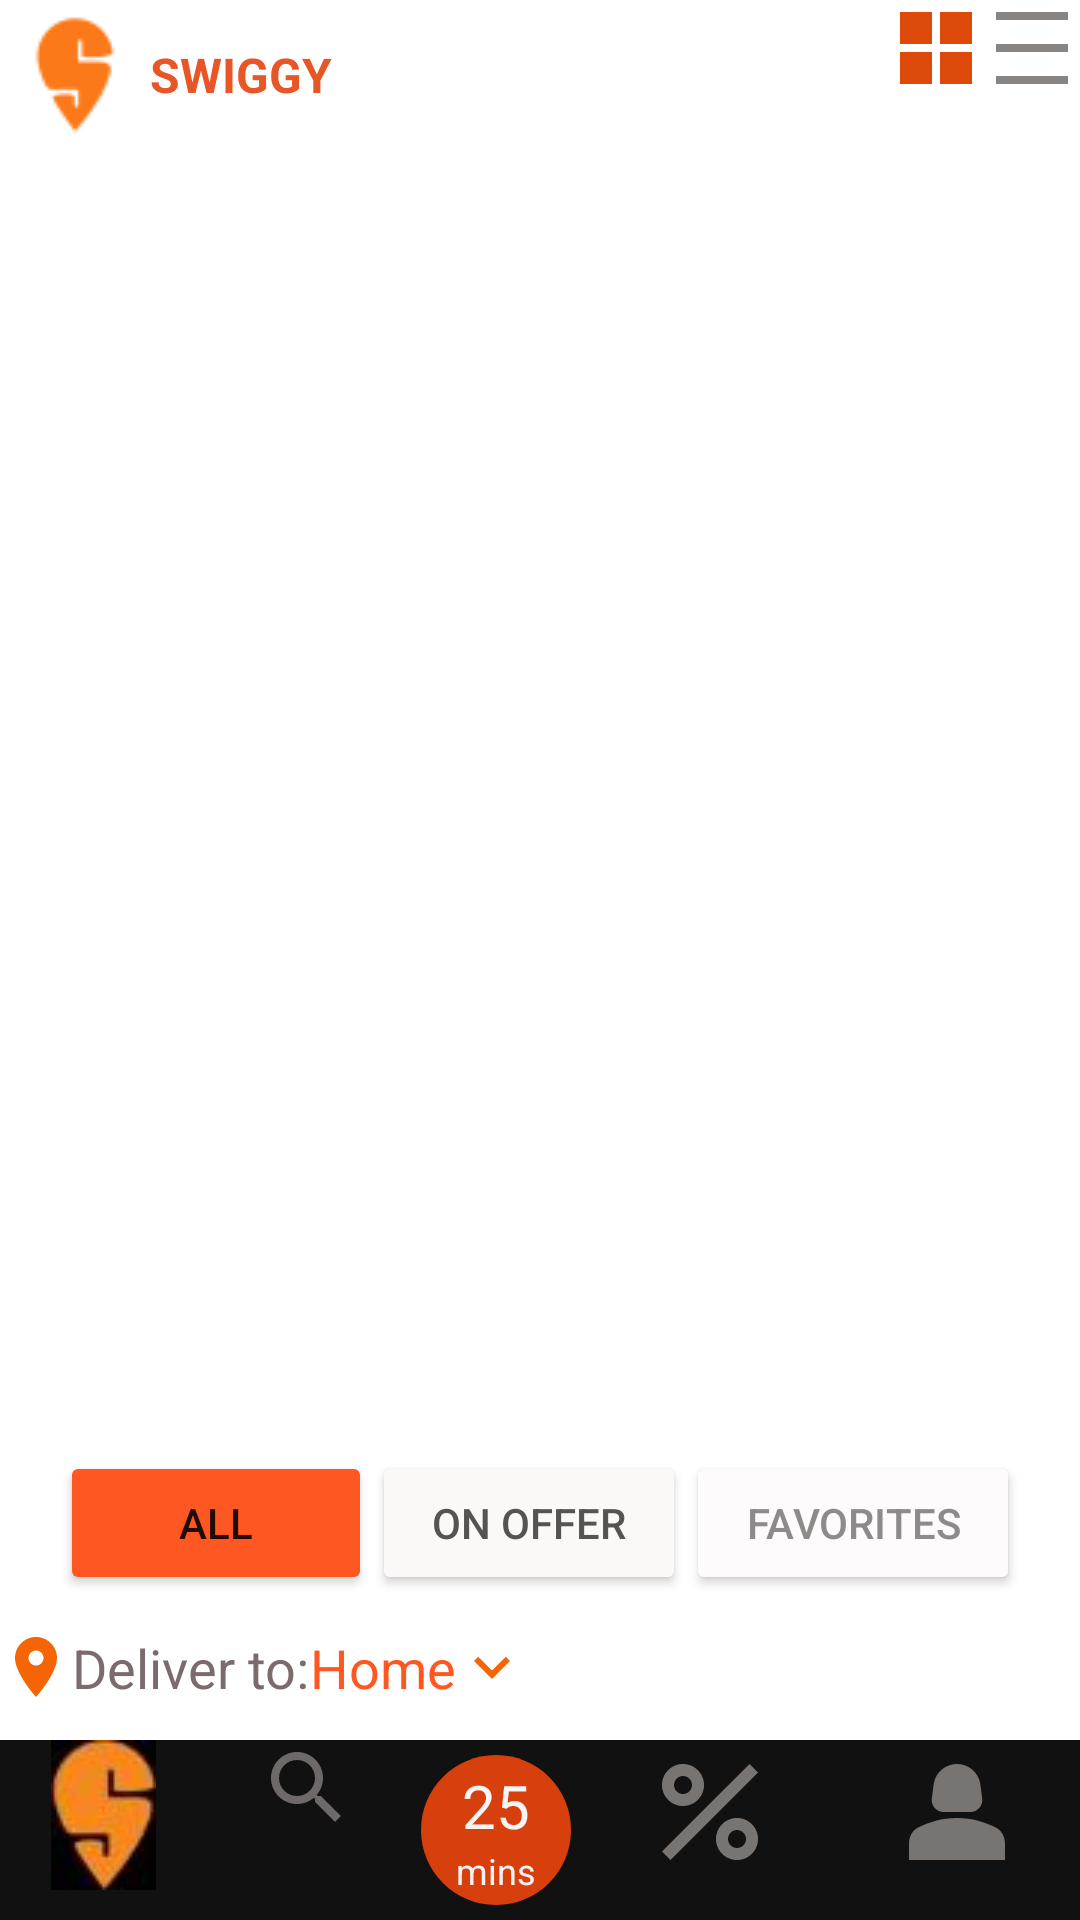

Where icons sit on this 1080×1920 app screen, as bbox(x1, y1, x2, y2):
density medium: bbox(996, 12, 1068, 84)
expand more: bbox(474, 1657, 510, 1679)
grid view: bbox(900, 12, 972, 84)
location on: bbox(15, 1637, 57, 1697)
percent: bbox(662, 1764, 758, 1860)
person: bbox(909, 1764, 1005, 1860)
search: bbox(271, 1752, 341, 1822)
